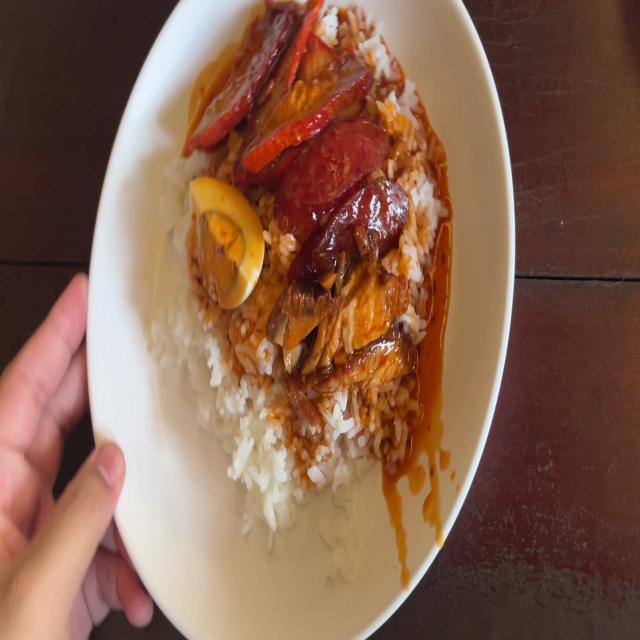01boiled_egg: (190, 186, 258, 295)
01chainese_sausage: (289, 134, 407, 268)
01crispy_pork: (274, 280, 408, 389)
01red_pork: (195, 7, 371, 164)
01red_pork_and_crispy_pork: (164, 10, 437, 494)
01rice: (246, 384, 404, 494), (173, 320, 270, 487)
